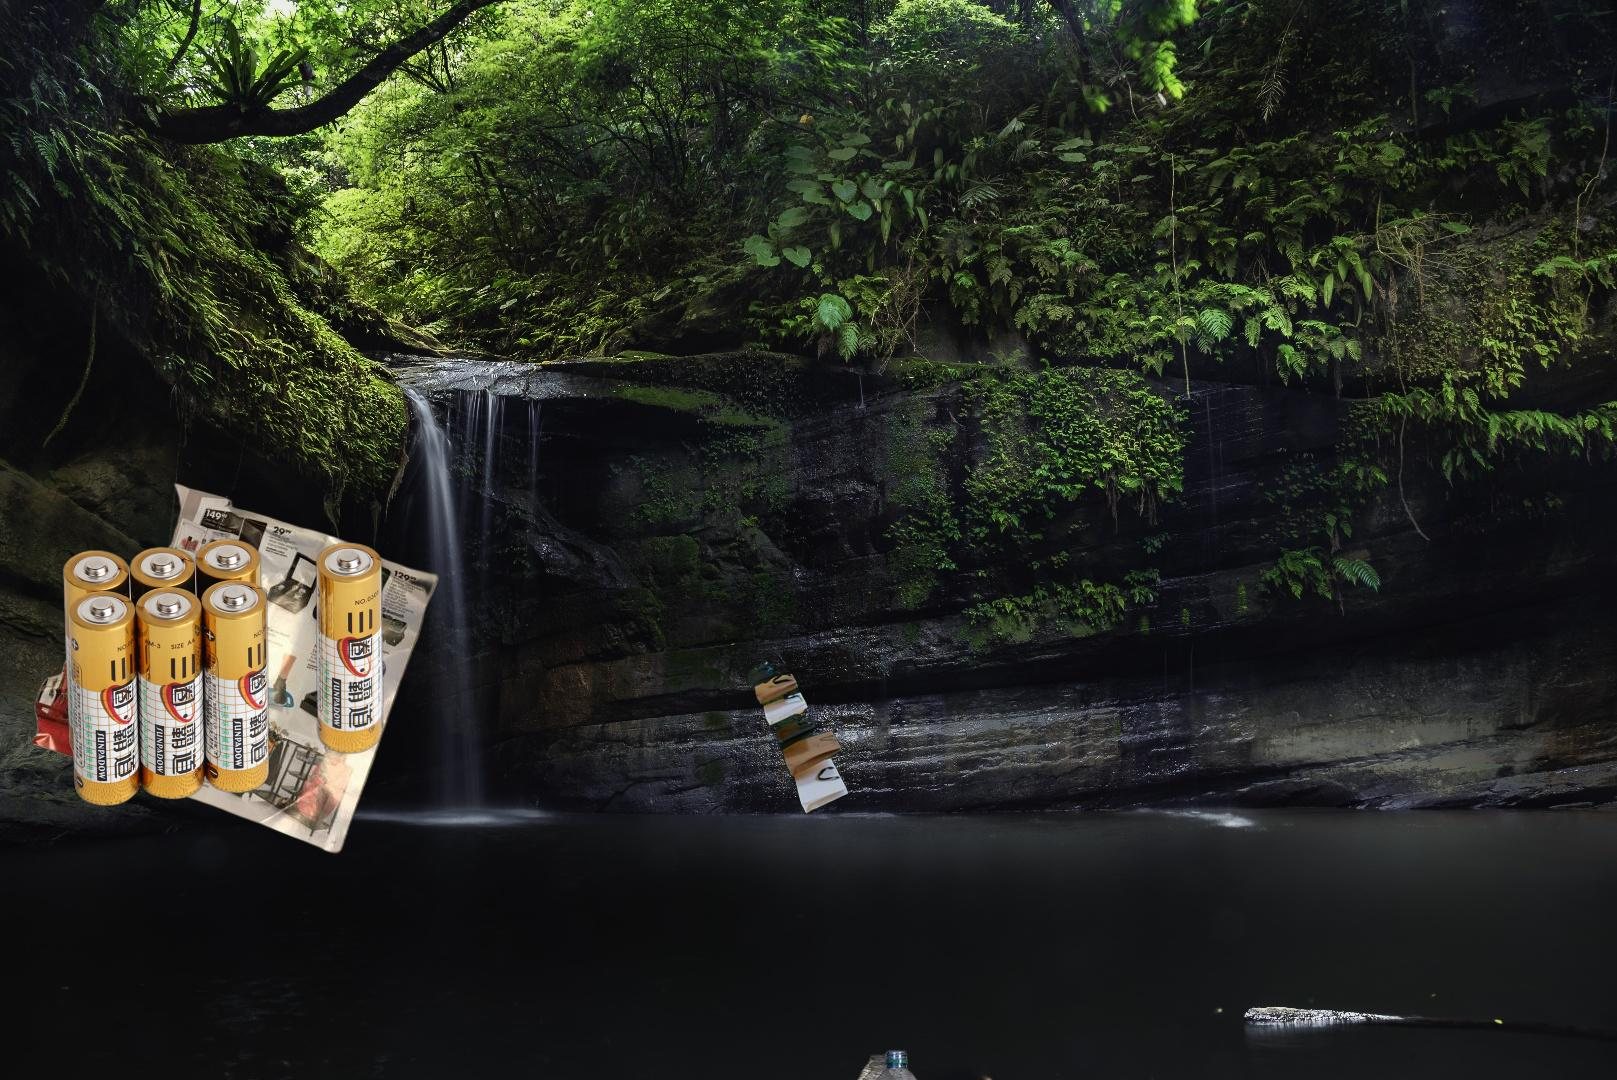battery: (60, 535, 387, 810)
paper: (27, 480, 443, 856)
paper-bag: (742, 658, 852, 817)
plastic-bottles: (847, 1044, 931, 1080)
